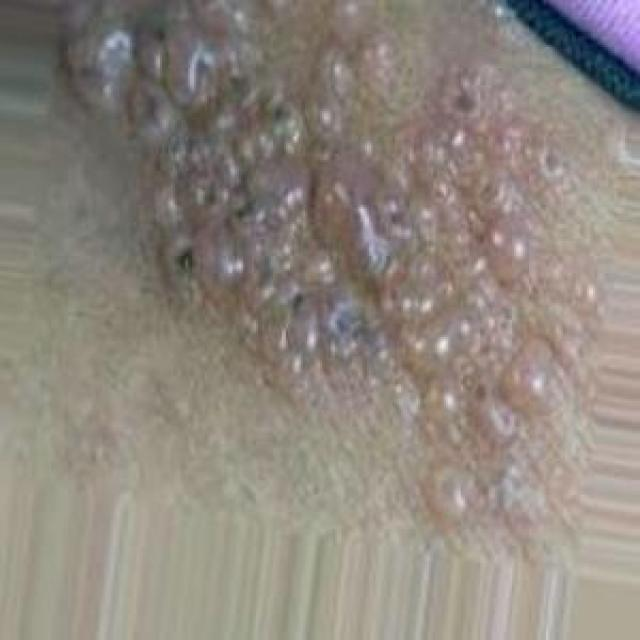Shingles: (60, 0, 565, 526)
